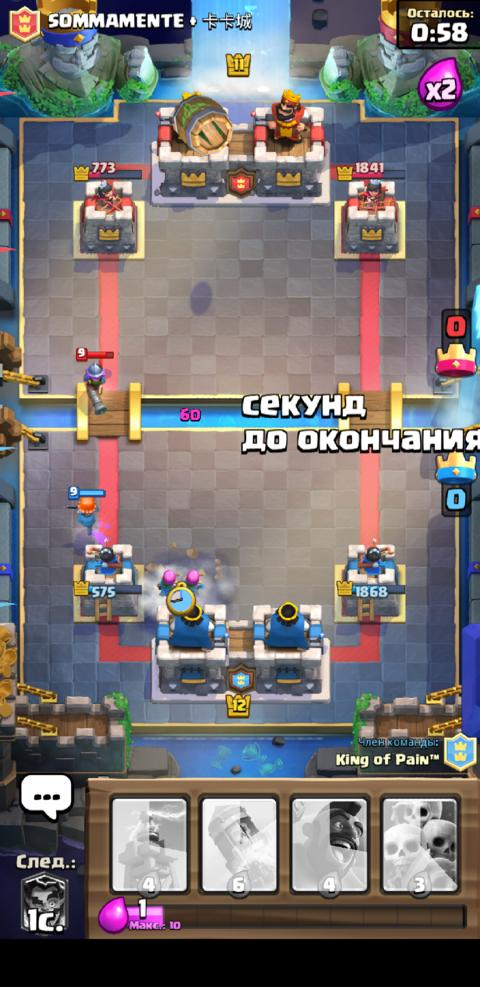ally_archer: (153, 567, 181, 598), (182, 567, 207, 598)
ally_valkyrie: (63, 483, 105, 537)
enemy_goblin_barrel: (170, 93, 232, 154)
enemy_musketeer: (74, 346, 116, 417)
